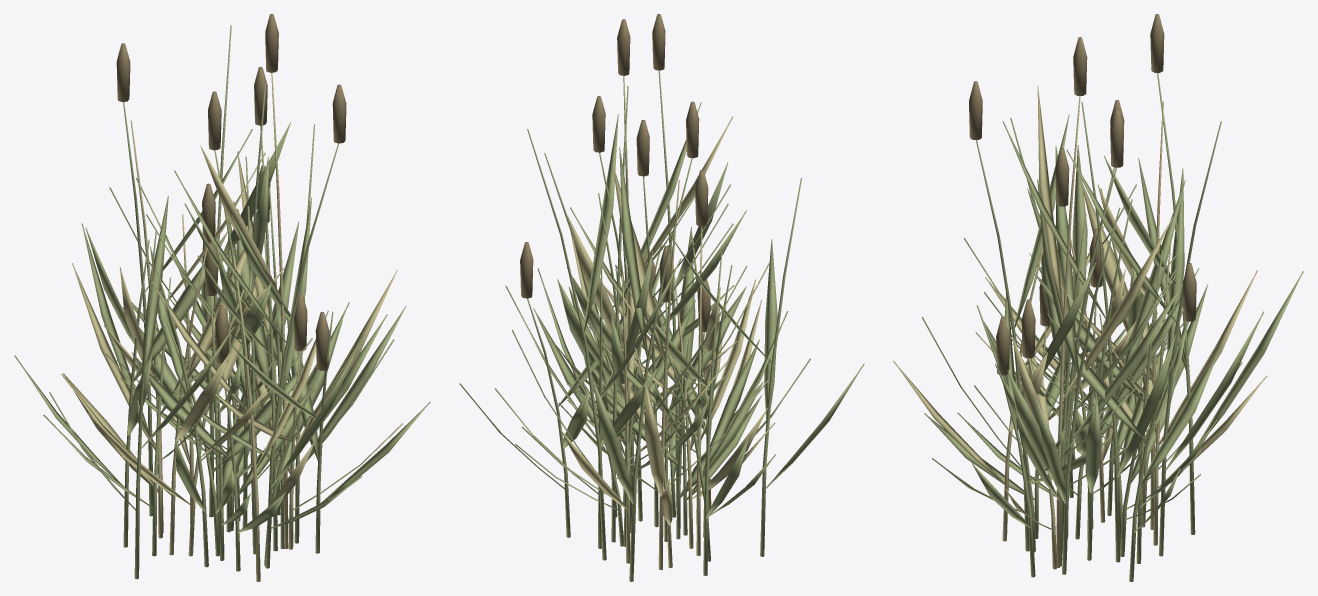
File: SM_ReedClump.fbx
3 views of the same model, side by side, from view 1: azimuth 30°, elevation 25°; view 2: azimuth 150°, elevation 25°; view 3: azimuth 270°, elevation 25° (orthographic). The views are drawn at different scales.
Parts seen in each view (by area): view 1: SM_ReedClump; view 2: SM_ReedClump; view 3: SM_ReedClump.
Part boxes in pixels (x1=…): SM_ReedClump: x1=14, y1=14, x2=430, y2=581; SM_ReedClump: x1=459, y1=14, x2=864, y2=581; SM_ReedClump: x1=893, y1=14, x2=1303, y2=581.
Bounding box in the file's own units: 121 × 120 × 171.
